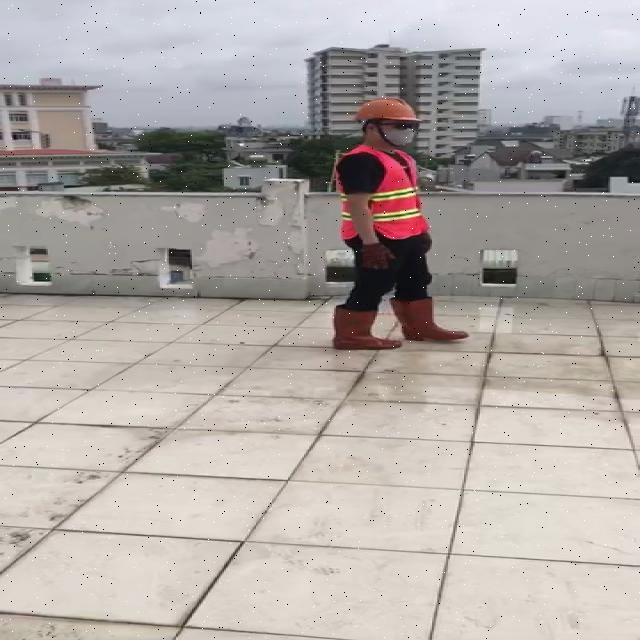Hard_hat: (347, 93, 422, 130)
Vest: (336, 142, 430, 241)
